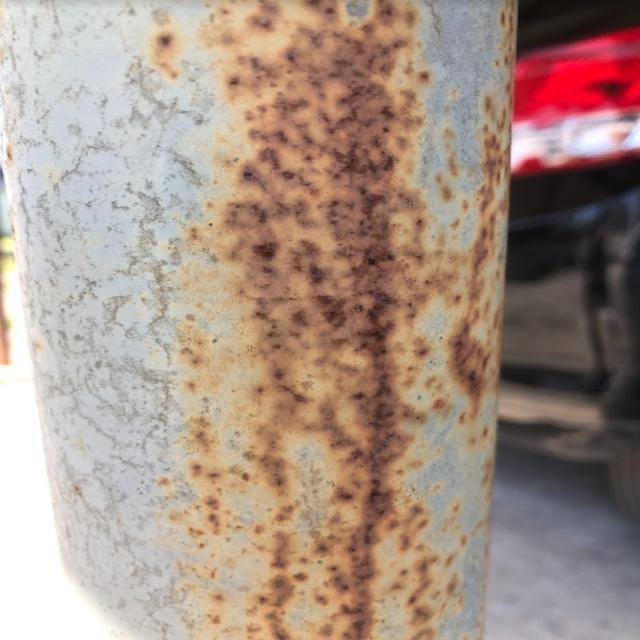corrosion: (147, 0, 519, 640)
